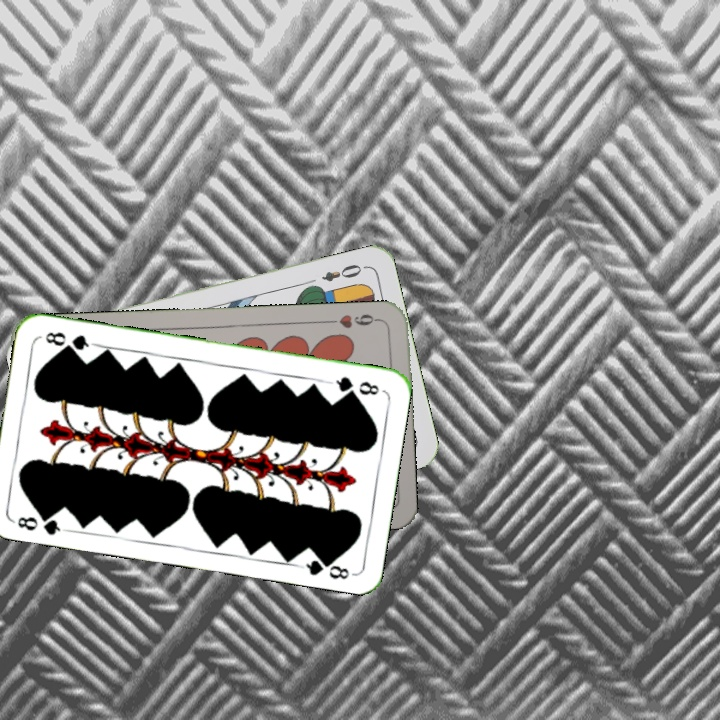EO: (318, 260, 369, 284)
G8: (10, 508, 69, 538), (326, 372, 382, 398)
H9: (324, 309, 383, 331)
